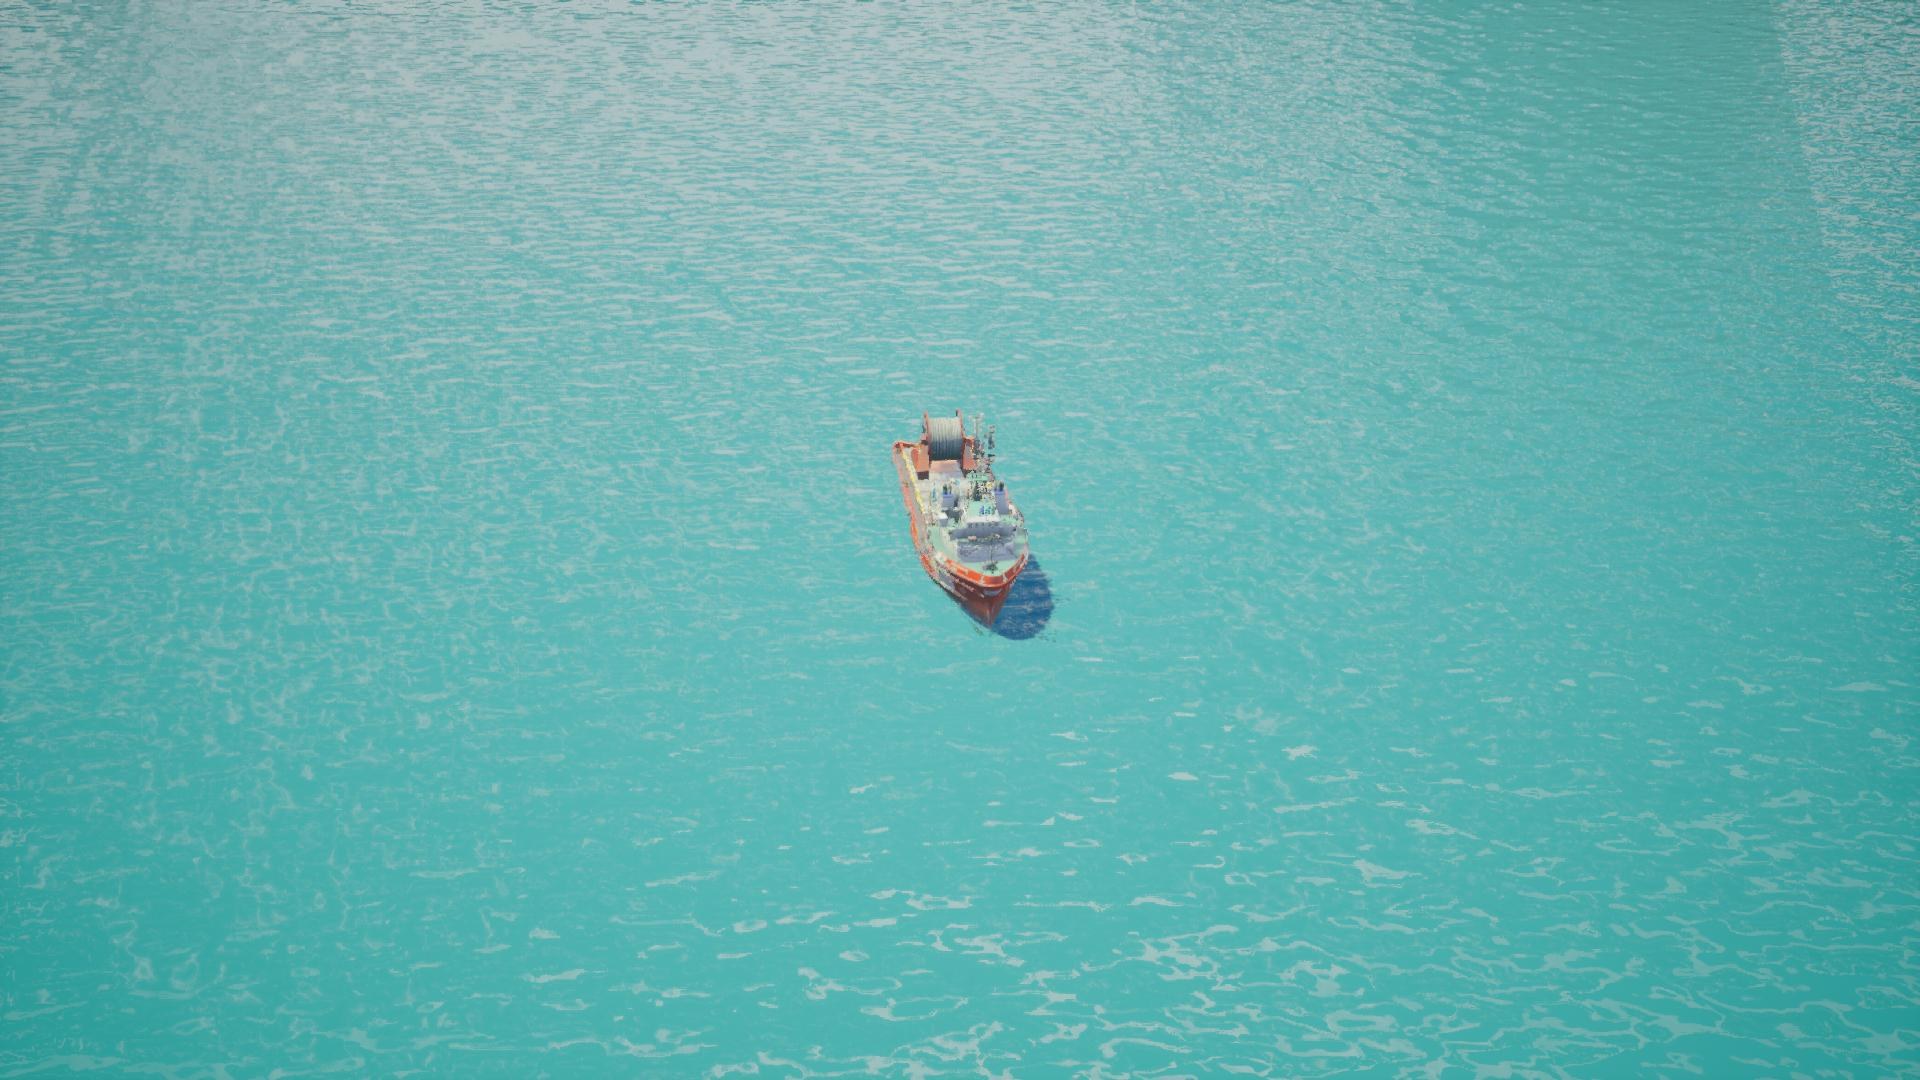Tug Boat: (889, 409, 1042, 641)
